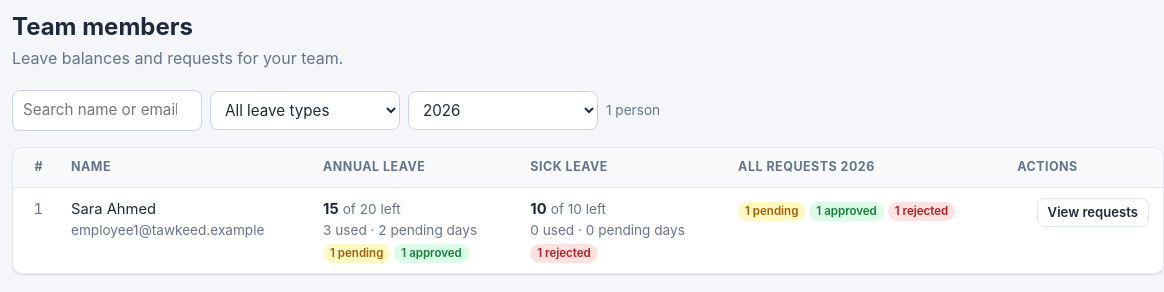
Test: TeamMembersPage › leave type filter shows only that leave type's column
This screenshot has width=1164, height=292.
Expected: the column heading "Sick Leave" is shown, x1=516 y1=148 x2=724 y2=187
Step 1. Select "Annual Leave" in the dropdown named "Leave type" → (305, 110), box x1=210 y1=91 x2=400 y2=130
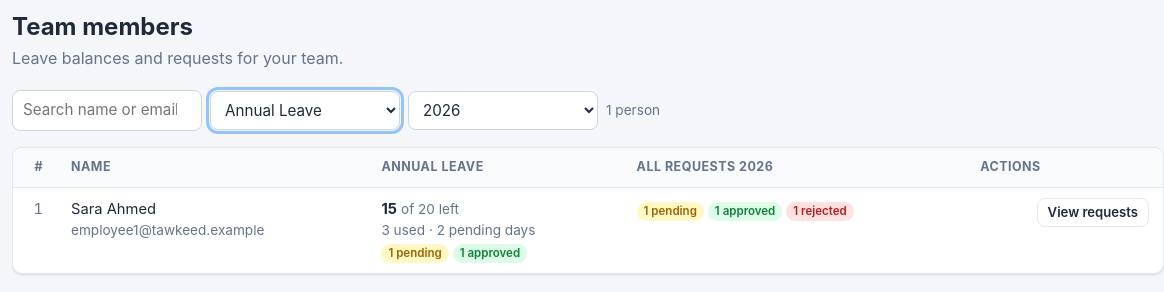
Expected: the column heading "Annual Leave" is shown, x1=367 y1=148 x2=623 y2=187
Result: the column heading "Sick Leave" is gone
